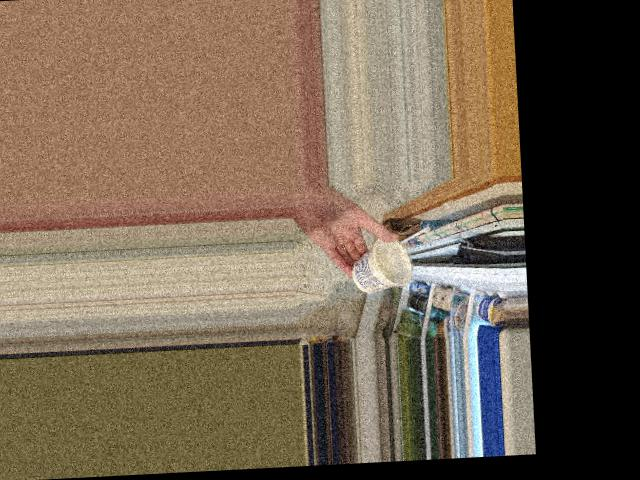cotage: (347, 240, 413, 289)
